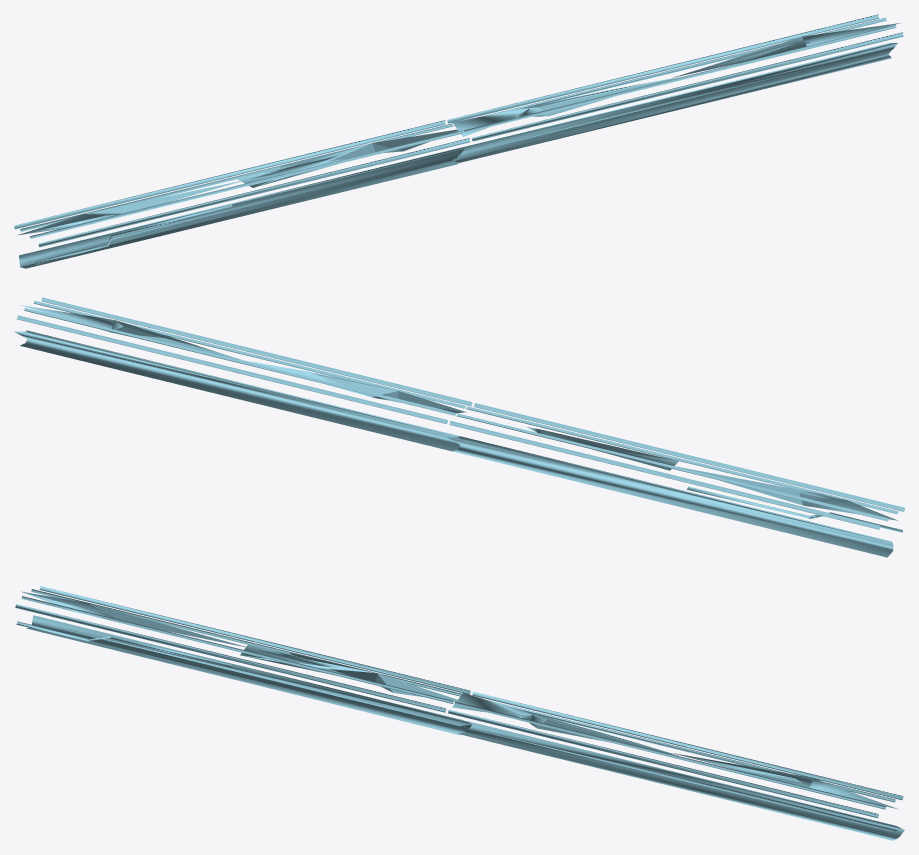
File: backdrop_bridge_a_lod4.glb
The picture shows the model from 3 angles, top to bottom: view 1: azimuth 30°, elevation 25°; view 2: azimuth 150°, elevation 25°; view 3: azimuth 330°, elevation 25°; orthographic projection.
Size of the model in its own units: 347 by 15.66 by 18.09.
